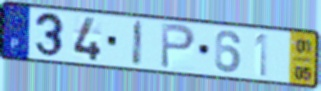1: (254, 33, 268, 78)
3: (33, 10, 67, 60)
4: (72, 15, 103, 62)
6: (214, 29, 245, 75)
I: (130, 18, 145, 69)
P: (159, 21, 197, 71)
